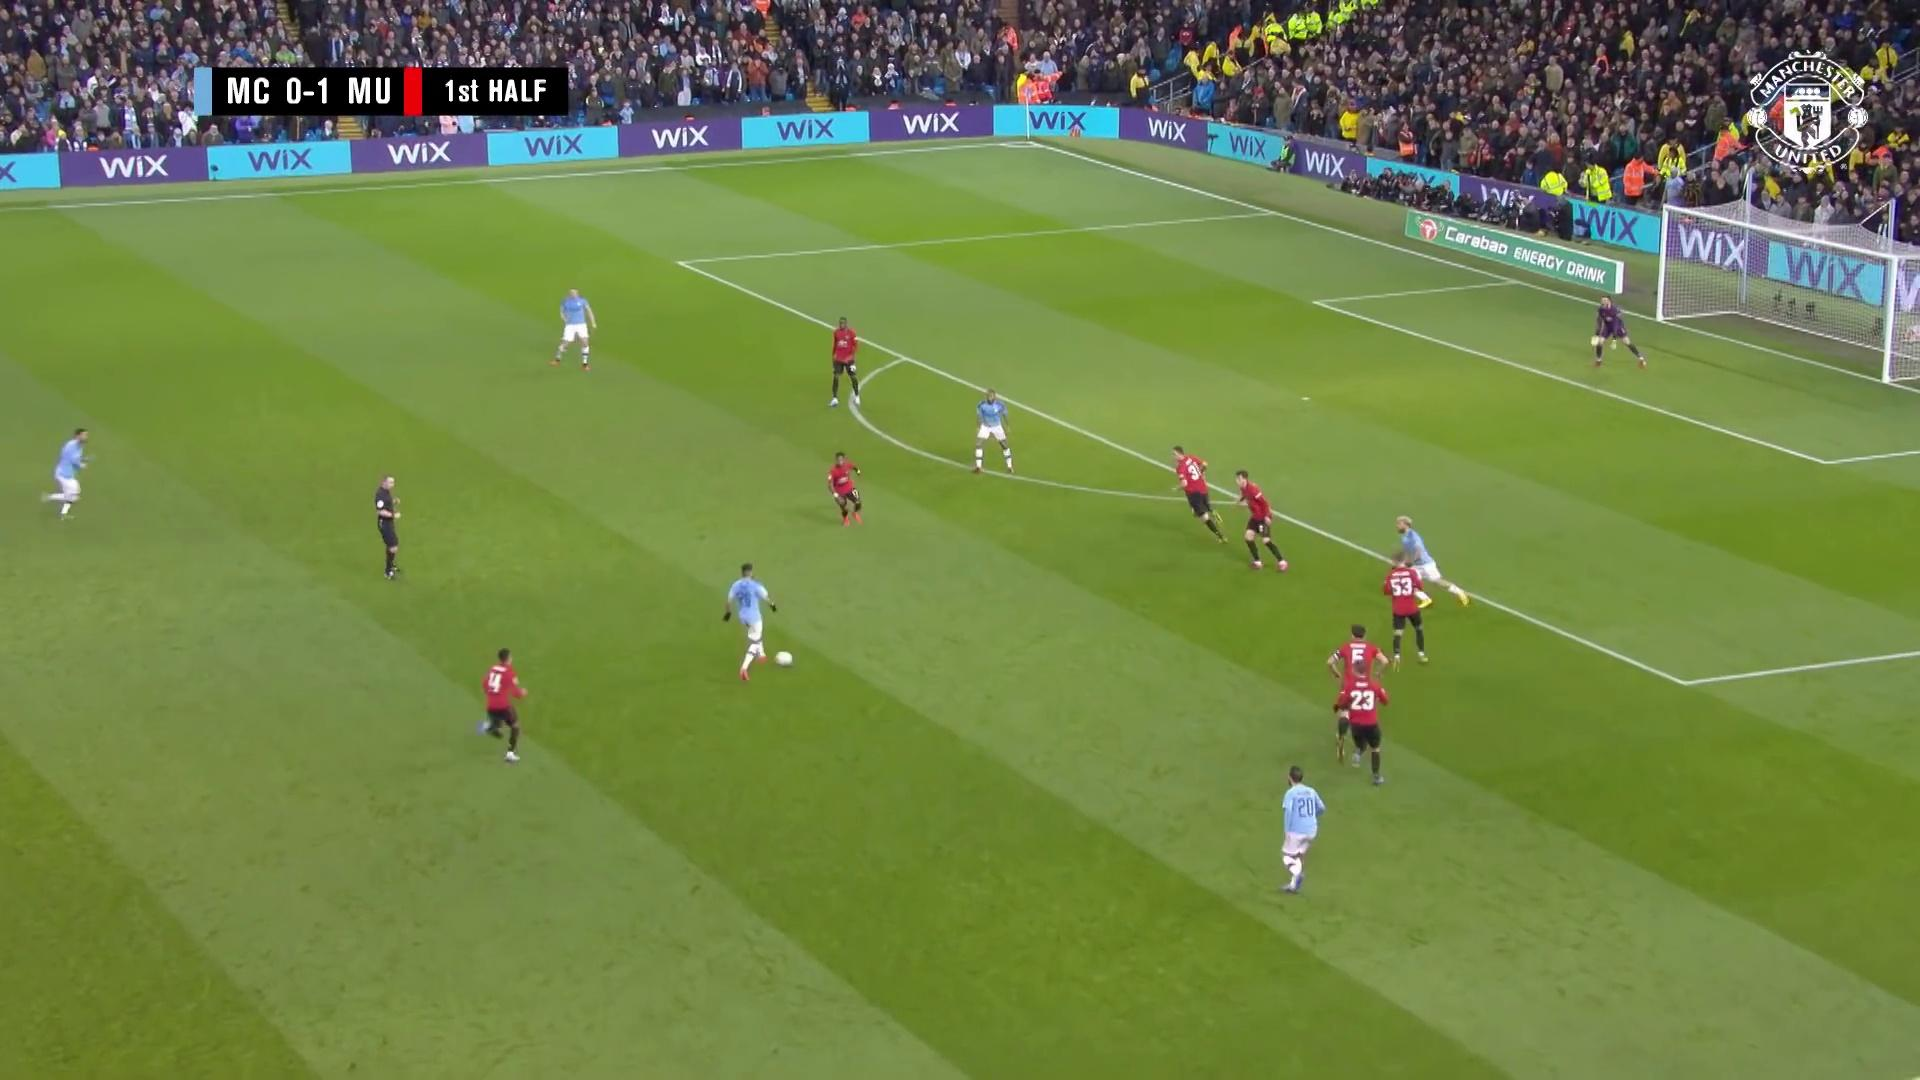ball: (775, 651, 796, 673)
